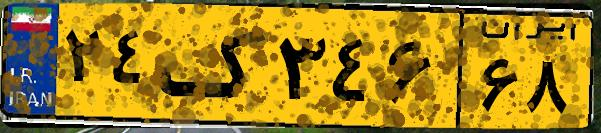2: (57, 26, 110, 100)
3: (270, 28, 330, 110)
4: (330, 28, 385, 110), (110, 28, 158, 98)
6: (385, 28, 445, 110), (475, 38, 525, 113)
8: (525, 38, 570, 115)
ک: (158, 12, 270, 120)
